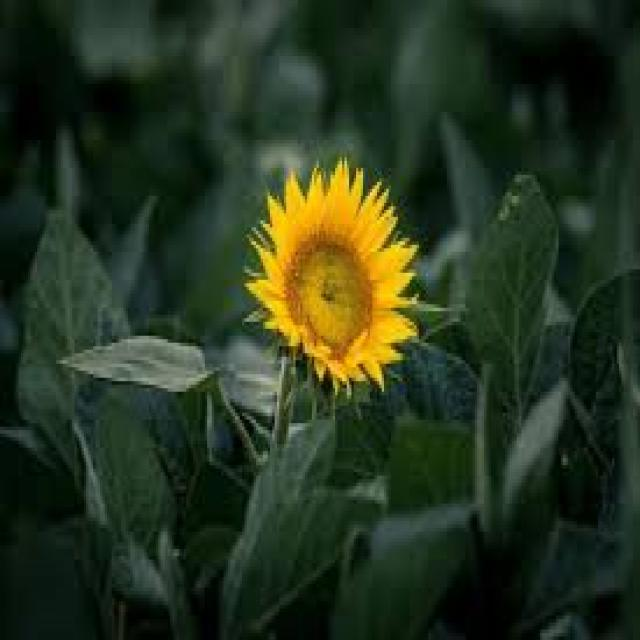sunflower: (244, 156, 419, 392)
